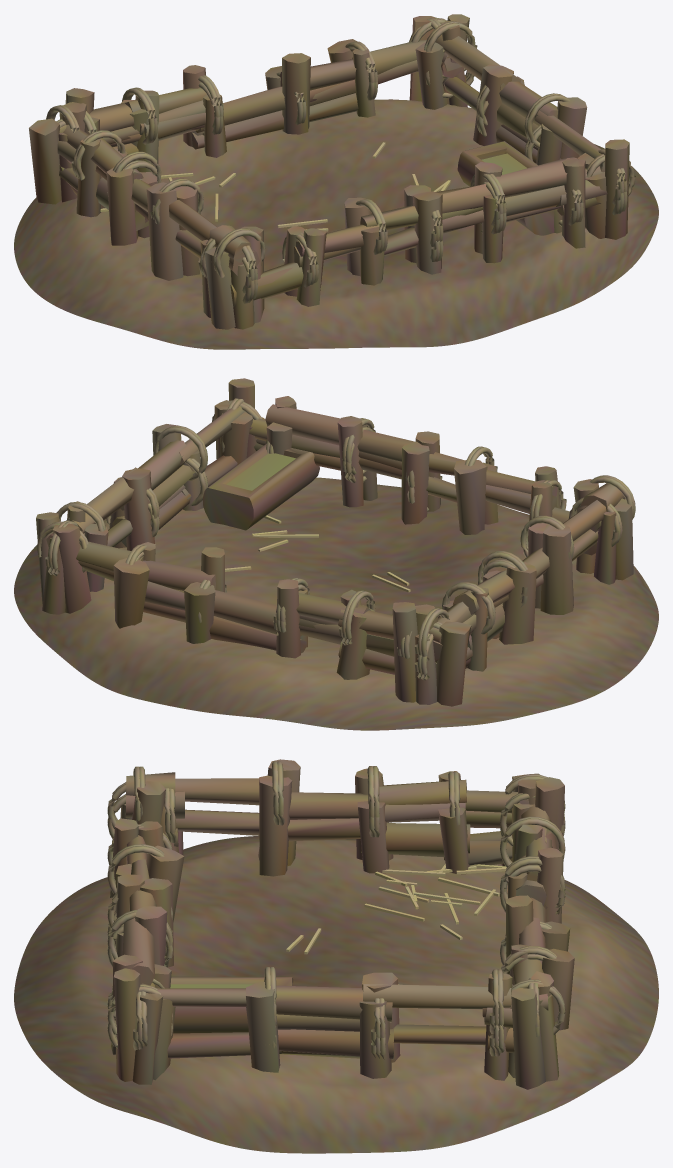
Rendered from PigSty.fbx.
3 renders of one model, top to bottom at view 1: azimuth 30°, elevation 25°; view 2: azimuth 150°, elevation 25°; view 3: azimuth 270°, elevation 25°, orthographic. The views are drawn at different scales.
Visible parts, largest first — view 1: PigSty; view 2: PigSty; view 3: PigSty.
Boxes of the visible parts, bbox=[...] form: PigSty: bbox=[14, 14, 658, 349]; PigSty: bbox=[14, 378, 658, 730]; PigSty: bbox=[14, 759, 658, 1153].
Size of the model in its own units: 8.6 by 1.72 by 7.4.
